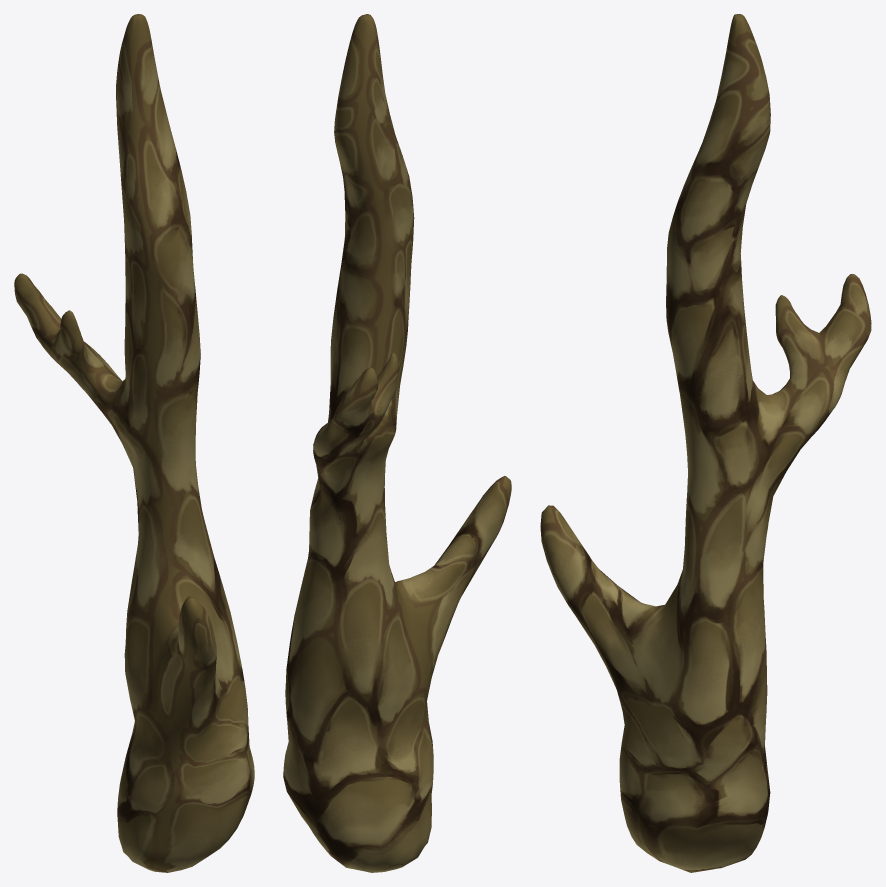
The model's file is branch4_fat.fbx.
3 views of the same model, side by side, from view 1: azimuth 30°, elevation 25°; view 2: azimuth 150°, elevation 25°; view 3: azimuth 270°, elevation 25° (orthographic). The views are drawn at different scales.
Visible parts, largest first — view 1: branch8; view 2: branch8; view 3: branch8.
Part boxes in pixels (x1=…): branch8: x1=14, y1=14, x2=254, y2=872; branch8: x1=283, y1=14, x2=511, y2=872; branch8: x1=540, y1=14, x2=871, y2=872.
Bounding box in the file's own units: 149 × 782 × 275.
1 material, 1 textured.
